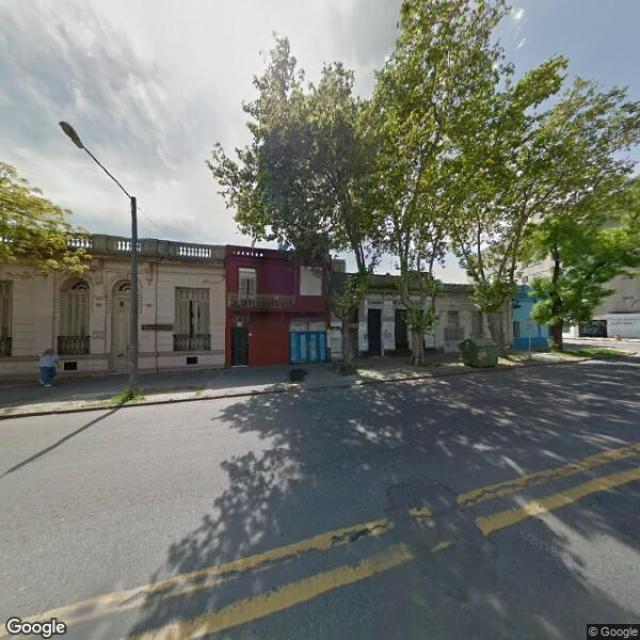garbage container: (455, 333, 505, 378)
